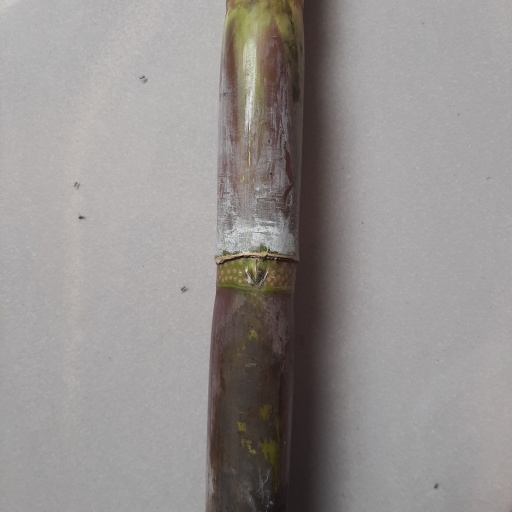Bud: (244, 257, 270, 287)
